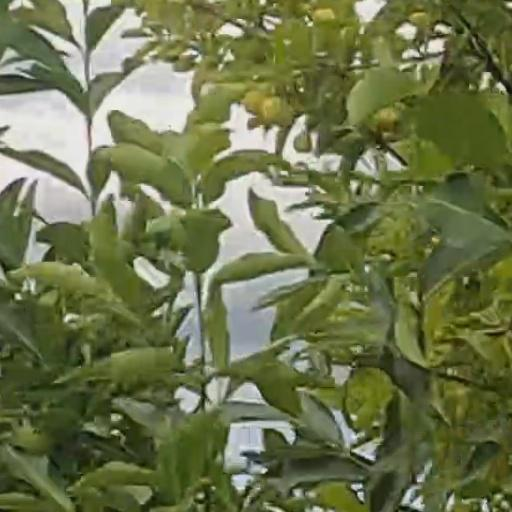acerola_verde: (350, 366, 389, 407), (263, 98, 290, 124)
